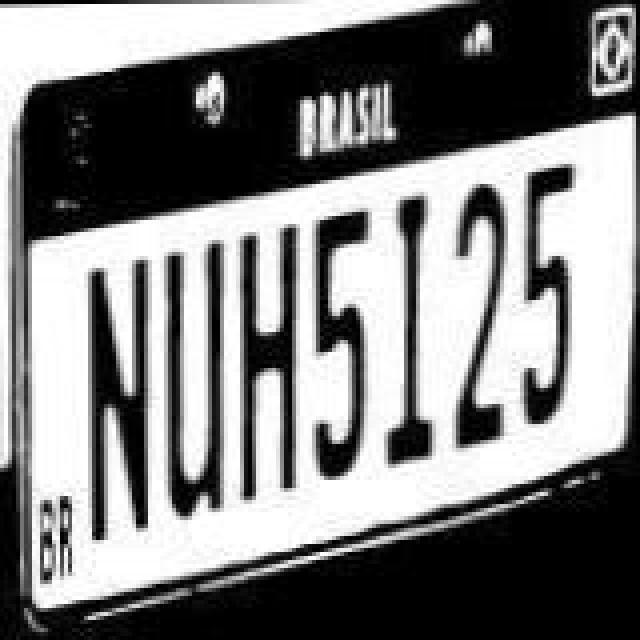2: (440, 172, 516, 456)
5: (306, 198, 378, 482), (516, 158, 584, 426)
H: (232, 216, 308, 504)
I: (376, 182, 444, 470)
N: (86, 254, 162, 562)
U: (158, 232, 234, 532)
